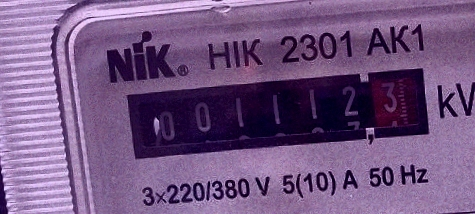0: (189, 97, 214, 136), (154, 106, 178, 142)
1: (228, 92, 248, 131), (266, 89, 282, 127), (304, 84, 320, 122)
2: (337, 82, 361, 119)
3: (378, 79, 398, 115)
screen: (118, 64, 436, 163)
